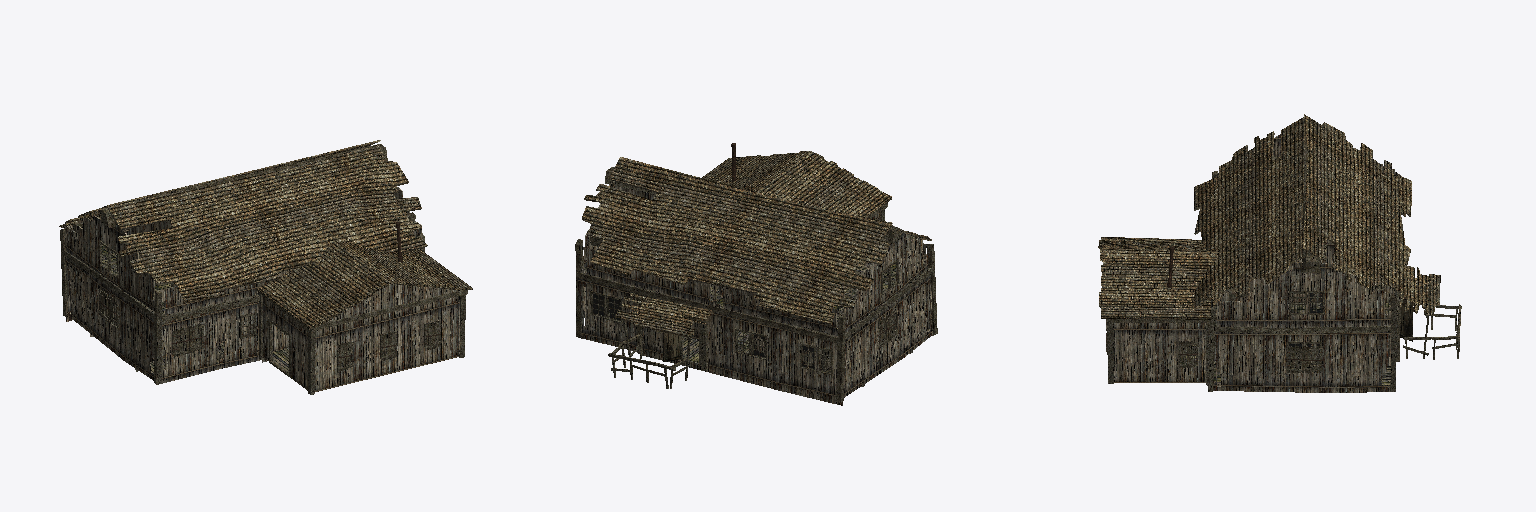
3 views of the same model, side by side, from view 1: azimuth 30°, elevation 25°; view 2: azimuth 150°, elevation 25°; view 3: azimuth 270°, elevation 25° (orthographic).
Visible parts, largest first — view 1: Mesh03, Mesh02, Mesh06, Mesh19, Mesh07, Mesh04; view 2: Mesh03, Mesh02, Mesh06, Mesh04; view 3: Mesh03, Mesh02, Mesh06, Mesh19.
Part boxes in pixels (x1,y1,x2,y2): Mesh03: (59, 140, 472, 329); Mesh02: (64, 155, 459, 391); Mesh06: (60, 144, 467, 394); Mesh19: (98, 288, 440, 356); Mesh07: (337, 331, 396, 371); Mesh04: (102, 245, 345, 383); Mesh03: (582, 151, 931, 337); Mesh02: (577, 181, 933, 405); Mesh06: (575, 167, 937, 402); Mesh04: (586, 263, 927, 362); Mesh03: (1098, 114, 1440, 319); Mesh02: (1114, 134, 1397, 392); Mesh06: (1106, 133, 1461, 391); Mesh19: (1106, 325, 1323, 372).
Size of the model in its own units: 234 by 114 by 249.
Materials: 8 (7 with a texture image).